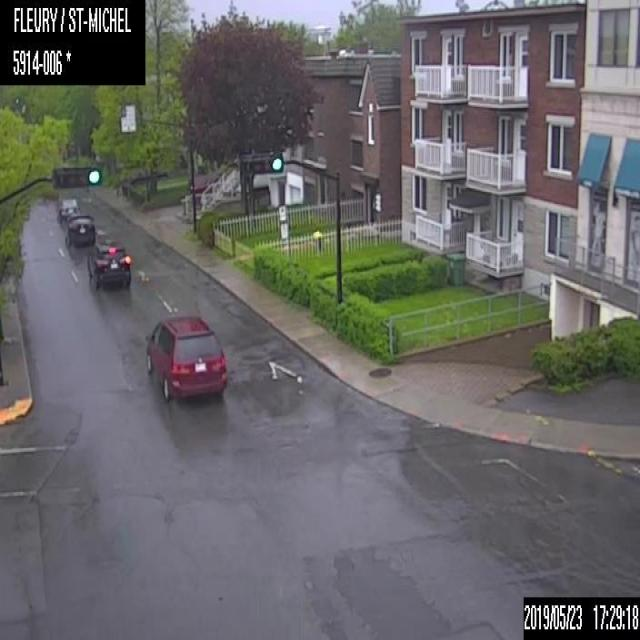vehicle: (144, 313, 226, 403), (86, 232, 131, 290), (64, 212, 94, 247), (56, 196, 80, 224)
